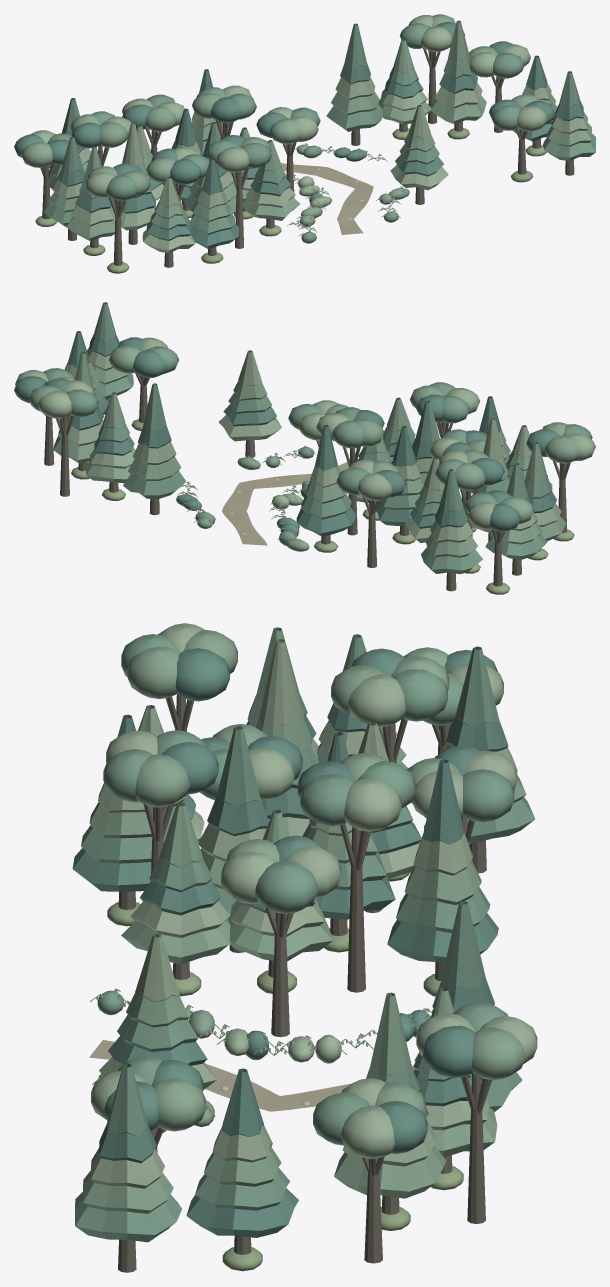
Rendered from village-northwood-deep.glb.
3 renders of one model, top to bottom at view 1: azimuth 30°, elevation 25°; view 2: azimuth 150°, elevation 25°; view 3: azimuth 270°, elevation 25°, orthographic. The views are drawn at different scales.
Visible parts, largest first — view 1: Forest hamlet; view 2: Forest hamlet; view 3: Forest hamlet.
Boxes of the visible parts, x1=… form: Forest hamlet: x1=14, y1=14, x2=595, y2=273; Forest hamlet: x1=14, y1=302, x2=595, y2=594; Forest hamlet: x1=72, y1=623, x2=537, y2=1272.
Bounding box in the file's own units: 31.69 × 7.44 × 12.81.
Materials: 9 (9 with a texture image).
